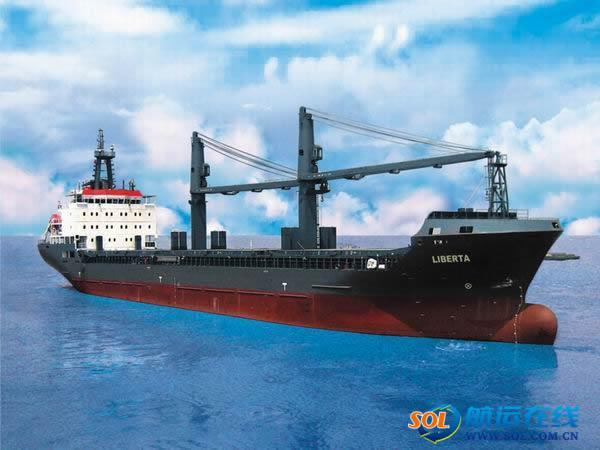Cargoship: (32, 104, 568, 350)
